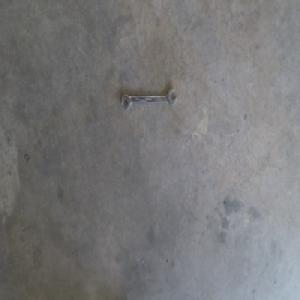Wrench: (121, 88, 176, 110)
